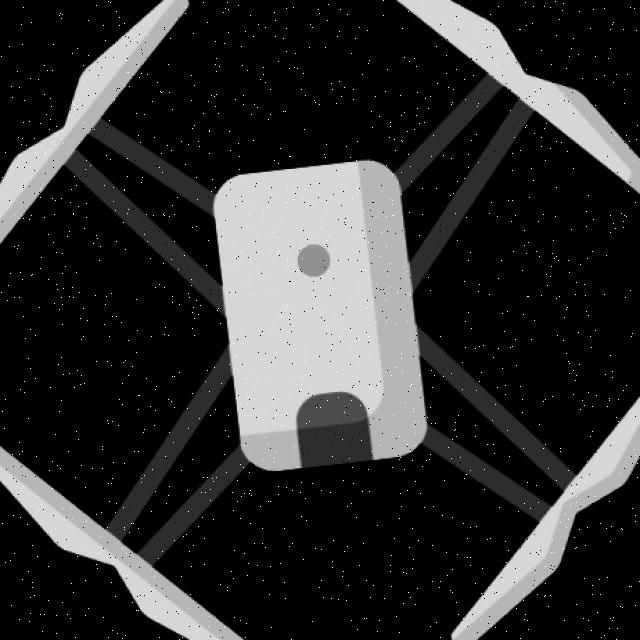drone: (2, 1, 640, 640)
